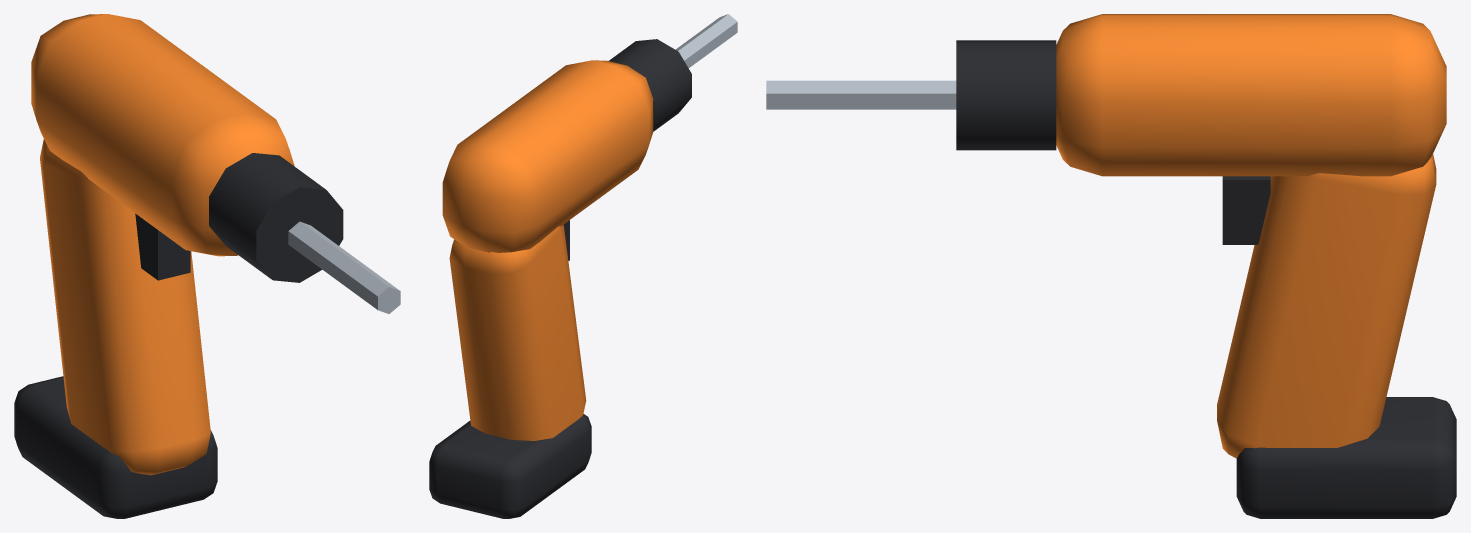
The model's file is PowerDrill.fbx.
3 views of the same model, side by side, from view 1: azimuth 30°, elevation 25°; view 2: azimuth 150°, elevation 25°; view 3: azimuth 270°, elevation 25° (orthographic). The views are drawn at different scales.
Visible parts, largest first — view 1: PowerDrill; view 2: PowerDrill; view 3: PowerDrill.
Part boxes in pixels (left/top/right/bottom): PowerDrill: left=14, top=14, right=400, bottom=518; PowerDrill: left=429, top=14, right=737, bottom=518; PowerDrill: left=766, top=14, right=1456, bottom=518.
Bounding box in the file's own units: 0.36 × 1.31 × 1.73.
Materials: 1 (1 with a texture image).
